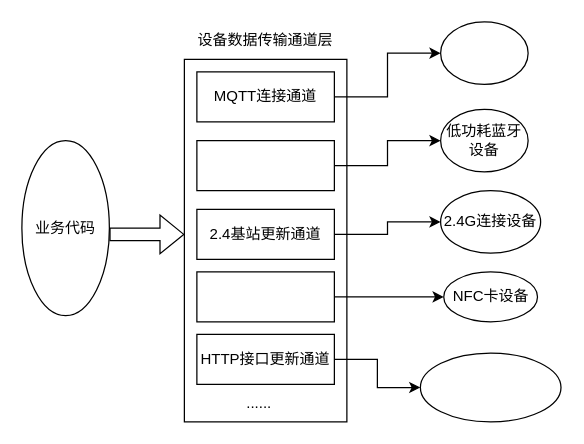
This 584x444 diagram has some shape labels left out. Each missing label, with the centre of its shape:
HTTP接口更新设备: point 490,387
NFC更新通道: point 265,296
WIFI设备: point 483,52
蓝牙基站更新通道: point 265,165
